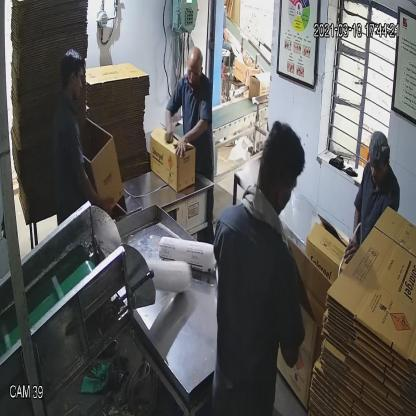no_glove: (83, 169, 118, 226), (173, 116, 214, 159), (164, 106, 178, 149)
